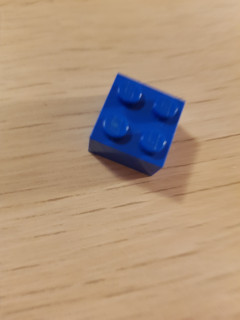2x2 blue: (85, 71, 188, 178)
